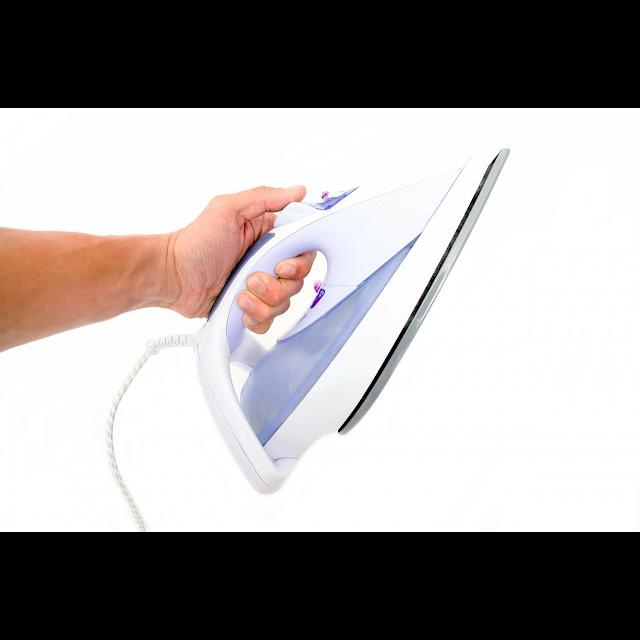Clothes-Iron: (109, 165, 395, 469)
